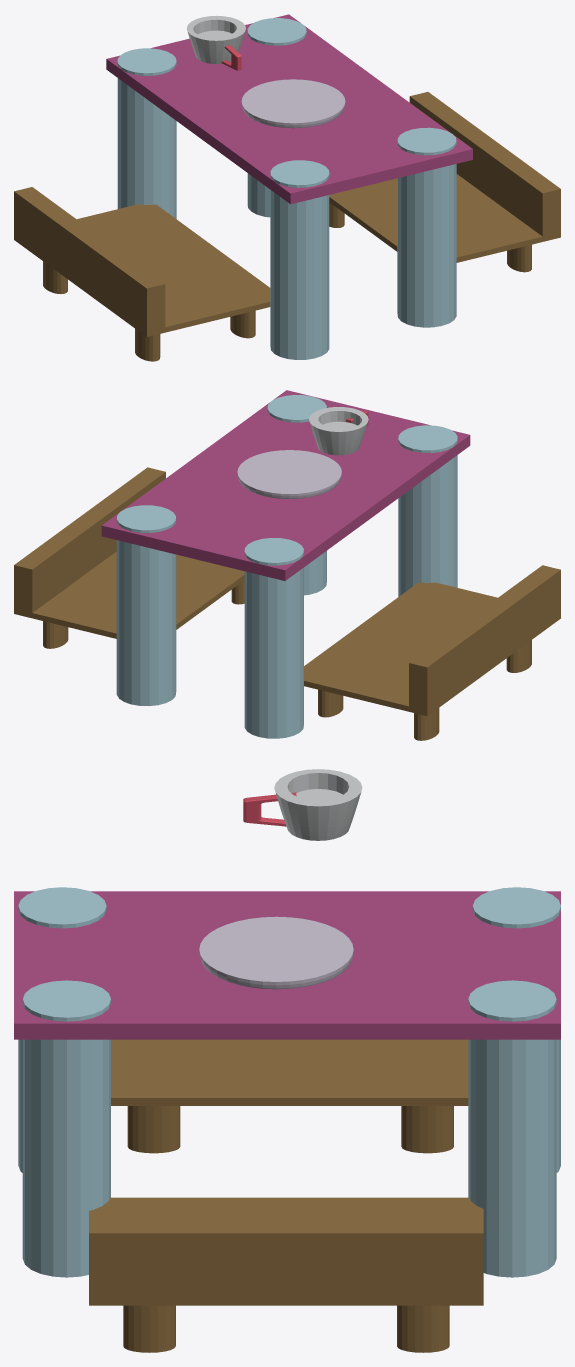
The model's file is Stunning Amur-Bruticus (1).glb.
3 renders of one model, top to bottom at view 1: azimuth 30°, elevation 25°; view 2: azimuth 150°, elevation 25°; view 3: azimuth 270°, elevation 25°, orthographic. The views are drawn at different scales.
Visible parts, largest first — view 1: Mesh_Mesh_head_geo.001_lambert2SG.001; view 2: Mesh_Mesh_head_geo.001_lambert2SG.001; view 3: Mesh_Mesh_head_geo.001_lambert2SG.001.
Part boxes in pixels (<box>): Mesh_Mesh_head_geo.001_lambert2SG.001: <box>14,14,560,361</box>; Mesh_Mesh_head_geo.001_lambert2SG.001: <box>14,390,560,740</box>; Mesh_Mesh_head_geo.001_lambert2SG.001: <box>14,769,560,1352</box>.
Size of the model in its own units: 160 by 95 by 124.
